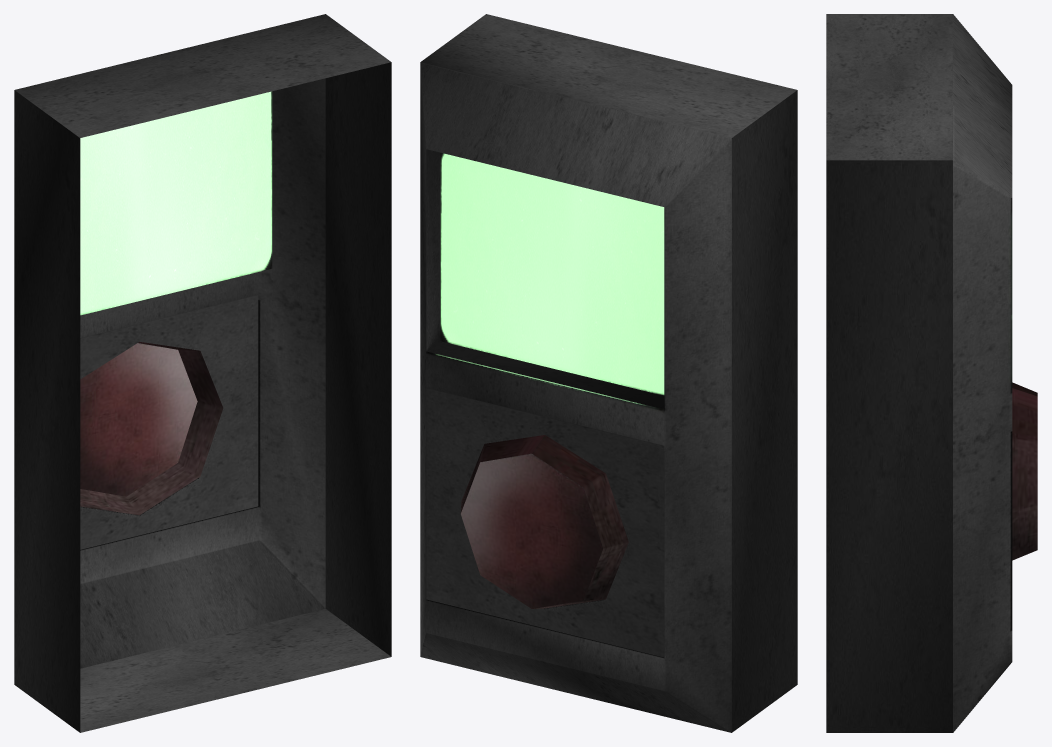
Rendered from scpcb_button.glb.
3 renders of one model, left to right at view 1: azimuth 30°, elevation 25°; view 2: azimuth 150°, elevation 25°; view 3: azimuth 270°, elevation 25°, orthographic. The views are drawn at different scales.
Visible parts, largest first — view 1: Mesh_MatD3D01_0; view 2: Mesh_MatD3D01_0; view 3: Mesh_MatD3D01_0.
Boxes of the visible parts, x1=… form: Mesh_MatD3D01_0: x1=14, y1=14, x2=391, y2=732; Mesh_MatD3D01_0: x1=420, y1=14, x2=797, y2=732; Mesh_MatD3D01_0: x1=826, y1=14, x2=1037, y2=732.
Size of the model in its own units: 0.0276 by 0.0504 by 0.0169.
1 material, 1 textured.
